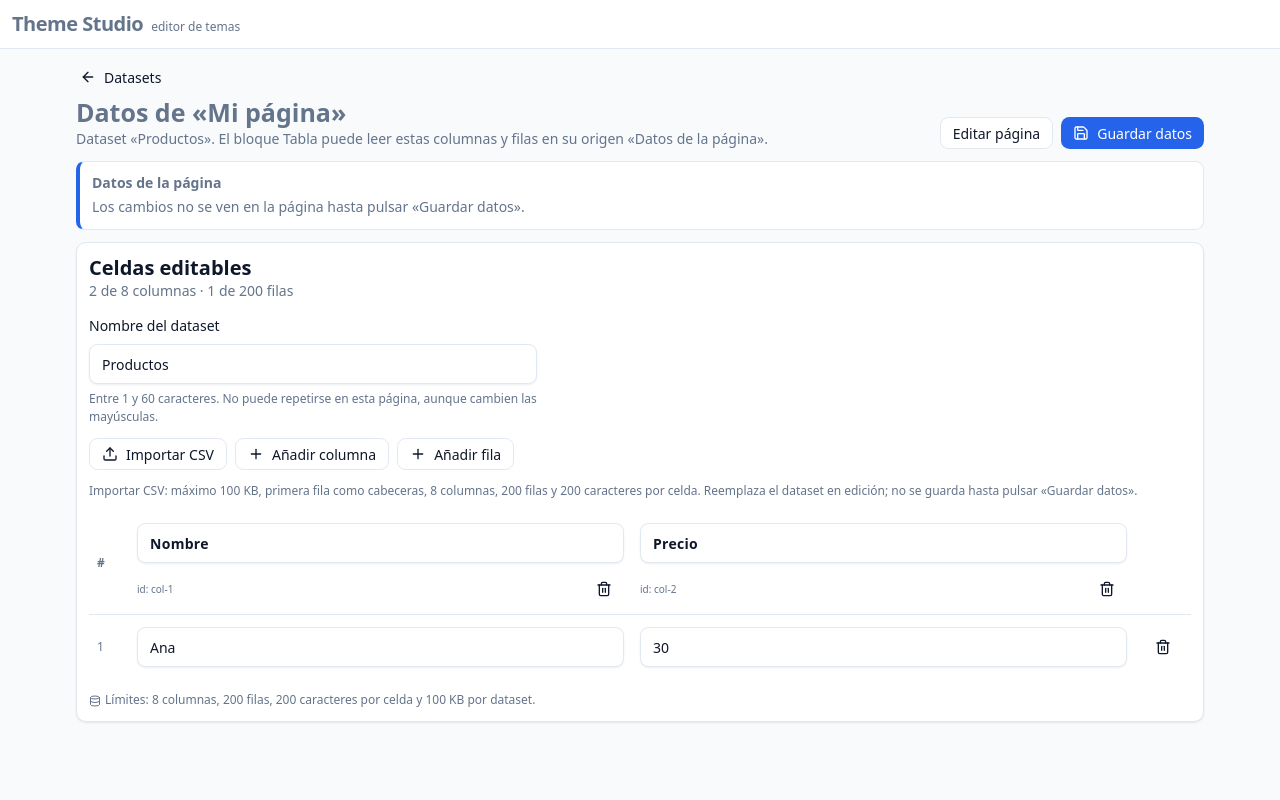
Test: DatasetPage › muestra el error legible si el guardado falla
Check: the field named "Fila 1, columna 1 (Nombre)" is shown, box [137,627,624,667]
Click the button "Guardar datos" at (1133, 133), box [1061,117,1204,149]
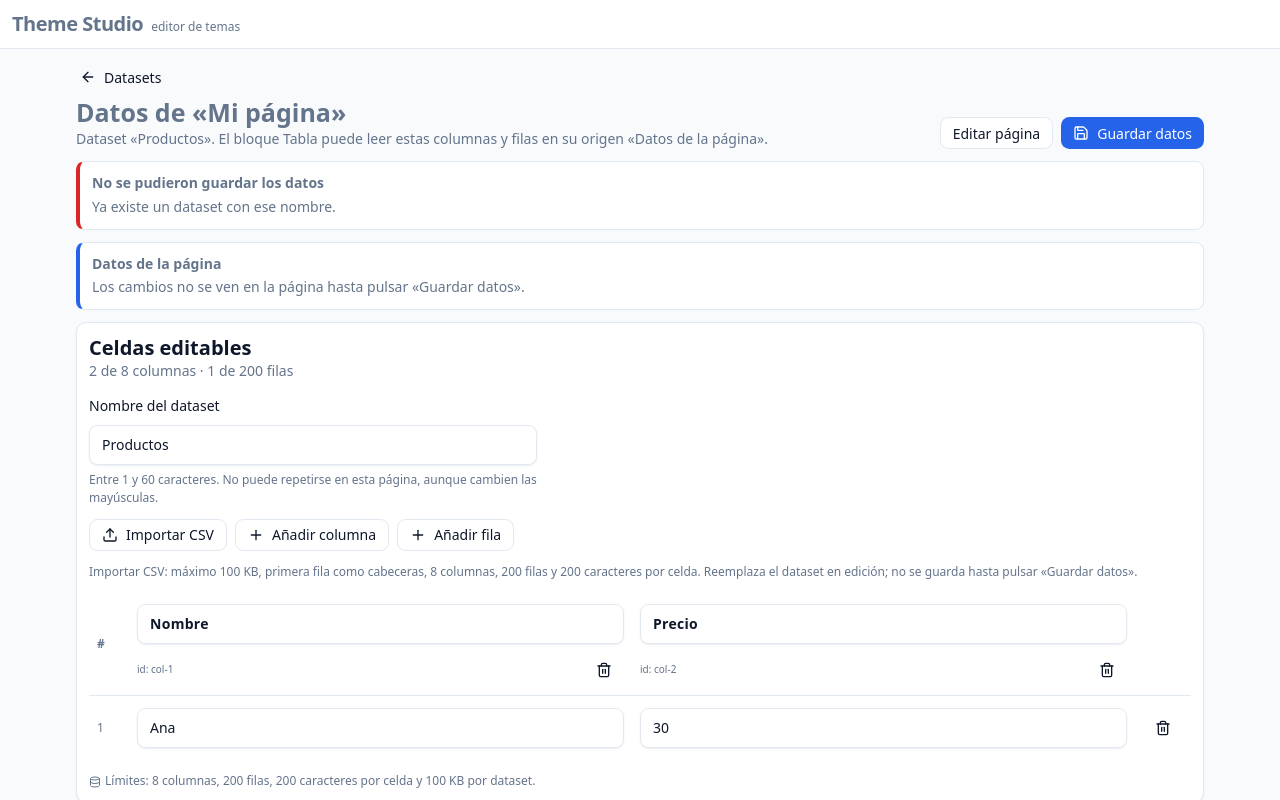
Check: the text "Ya existe un dataset con ese nombre." is shown, box [92,196,336,217]
